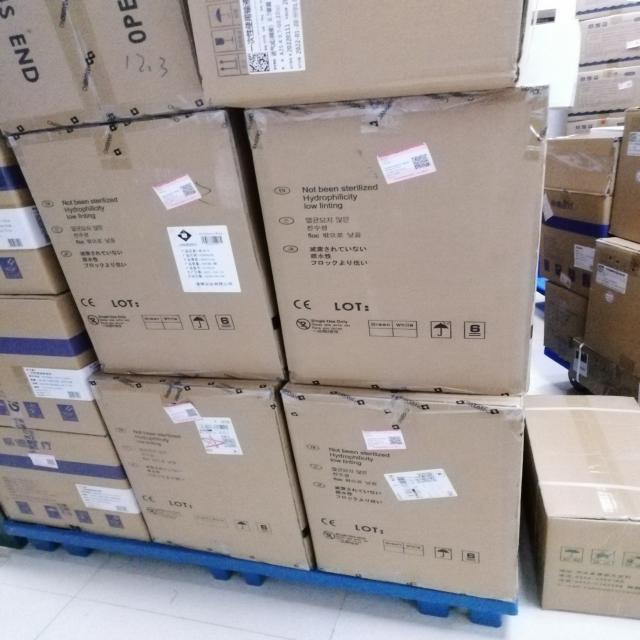box: (243, 84, 535, 395), (7, 112, 281, 384), (283, 371, 530, 609), (98, 368, 317, 574), (186, 0, 526, 102), (0, 0, 207, 132), (525, 394, 640, 617), (0, 429, 154, 544), (0, 294, 112, 433), (0, 139, 73, 295), (585, 234, 640, 362), (548, 137, 612, 233), (543, 219, 605, 296), (570, 339, 640, 396), (611, 109, 640, 243), (574, 13, 640, 67), (571, 61, 640, 112), (547, 282, 578, 369), (574, 0, 640, 23)
